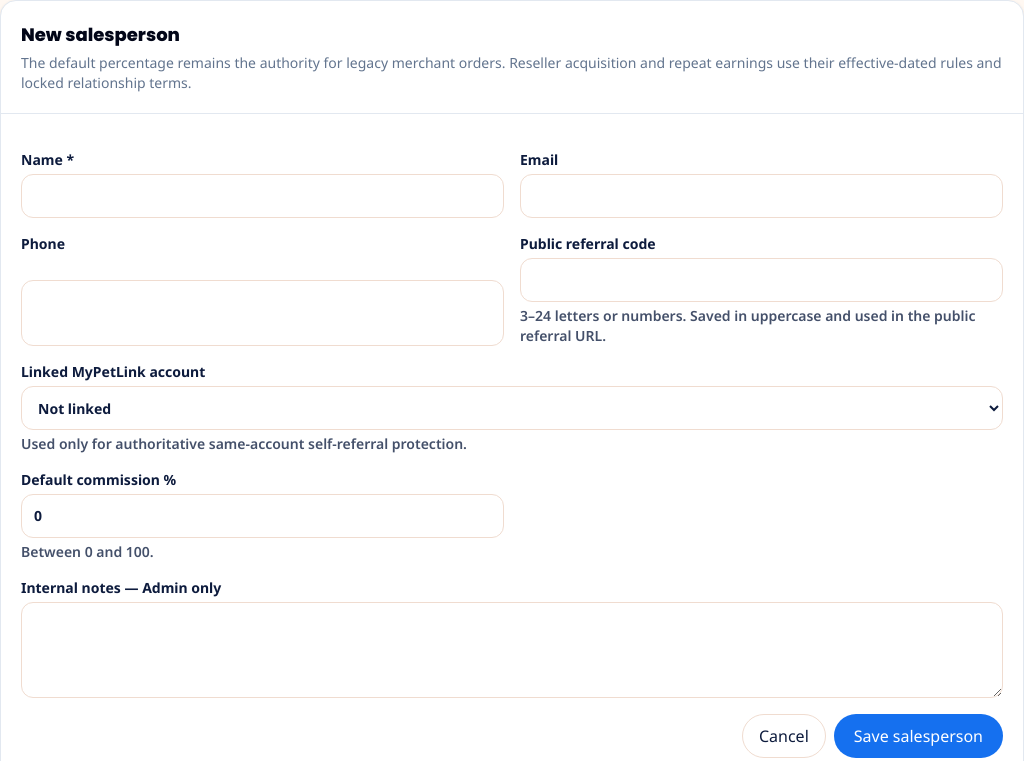
Salesperson editor › asks for a reload when someone else changed the record
The width and height of the screenshot is (1024, 761).
Type "Pat Lee" into the field labelled "Name *" at coordinates (262, 196), box [21,174,504,218]
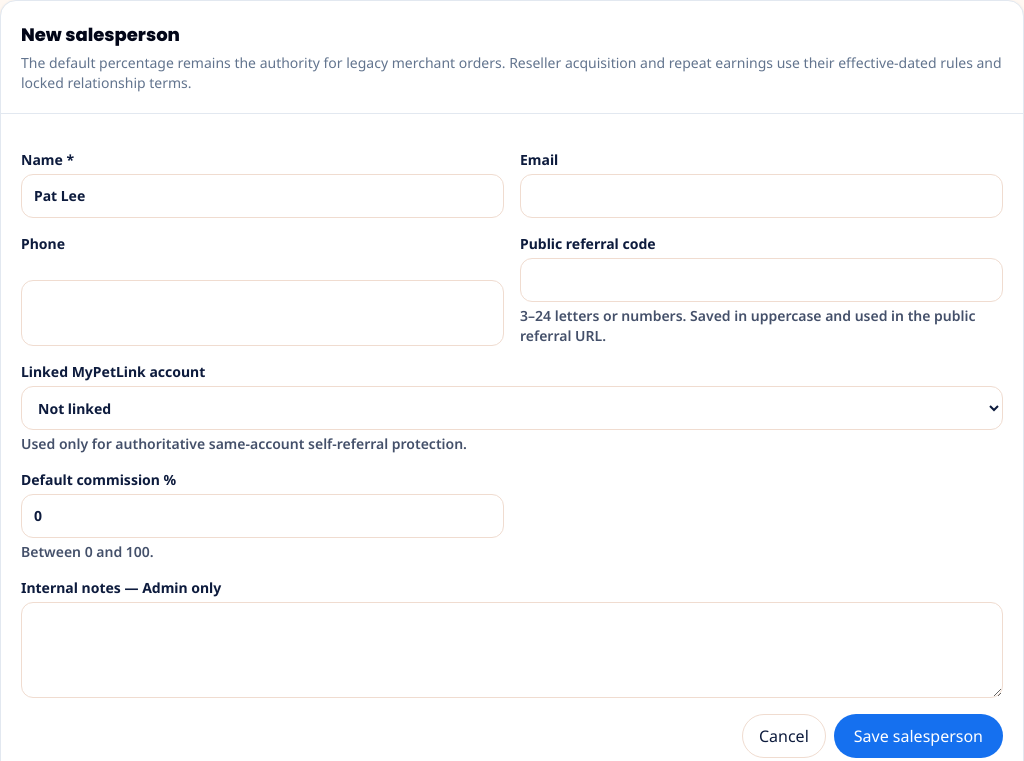
Click the button with test id "save-salesperson" at coordinates (918, 736), box [834,714,1003,758]
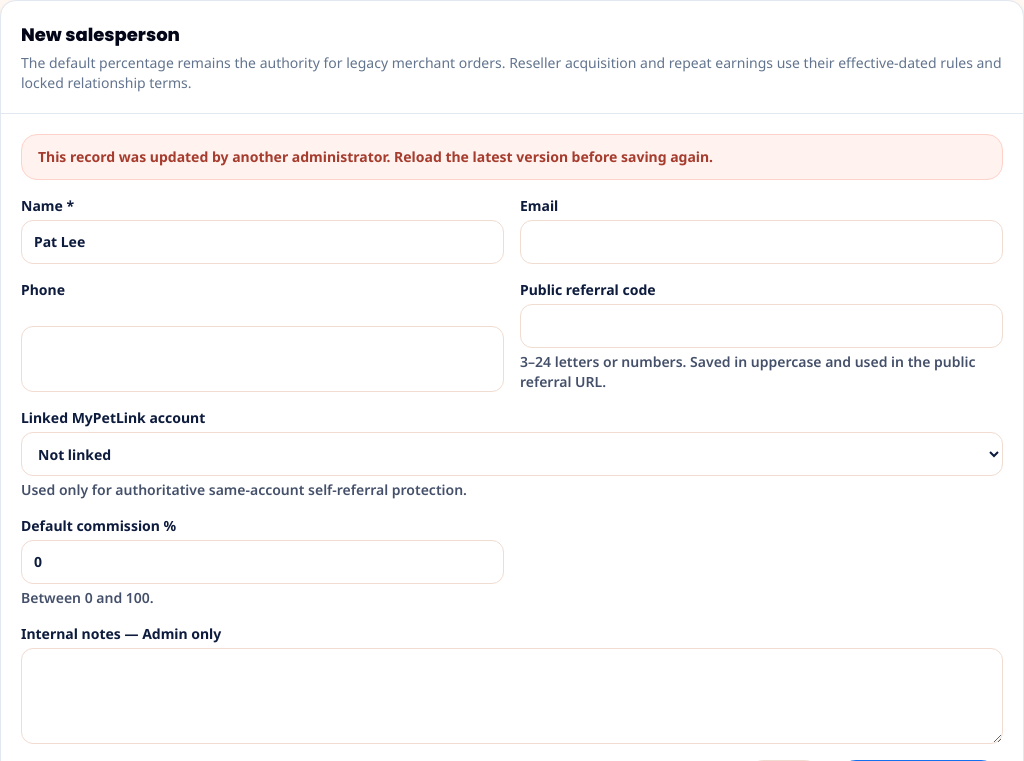
Result: the text "updated by another administrator" is shown at [38,147,713,166]
